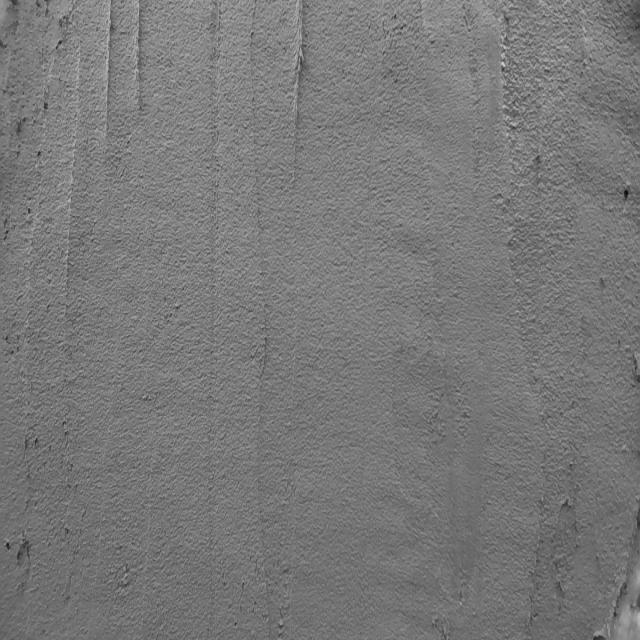trowels marks: (289, 3, 307, 185), (100, 0, 116, 139), (128, 0, 146, 114)
